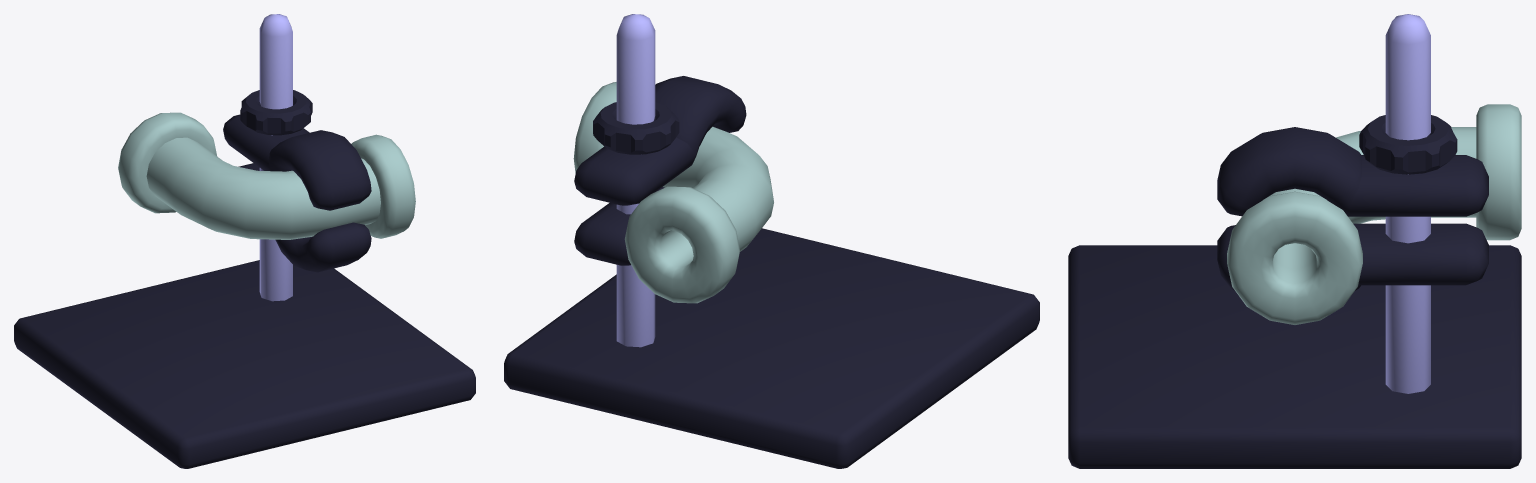
File: LastLuna_Model_Station_Pipe_Curve_Flip.fbx
3 views of the same model, side by side, from view 1: azimuth 30°, elevation 25°; view 2: azimuth 150°, elevation 25°; view 3: azimuth 270°, elevation 25° (orthographic). The views are drawn at different scales.
Visible parts, largest first — view 1: Stand_Base_Small001, Pipe_Curve001, Pipe_Arm_Clamp_Upper001, Stand_Pole_Small001, Pipe_Arm_Clamp_Lower001, Pipe_Arm_Clamp_Handle001; view 2: Stand_Base_Small001, Pipe_Curve001, Pipe_Arm_Clamp_Upper001, Stand_Pole_Small001, Pipe_Arm_Clamp_Handle001, Pipe_Arm_Clamp_Lower001; view 3: Stand_Base_Small001, Pipe_Curve001, Pipe_Arm_Clamp_Upper001, Stand_Pole_Small001, Pipe_Arm_Clamp_Lower001, Pipe_Arm_Clamp_Handle001.
Part boxes in pixels (x1=…): Stand_Base_Small001: x1=14, y1=260, x2=475, y2=468; Pipe_Curve001: x1=118, y1=112, x2=415, y2=239; Pipe_Arm_Clamp_Upper001: x1=223, y1=114, x2=371, y2=210; Stand_Pole_Small001: x1=259, y1=14, x2=292, y2=301; Pipe_Arm_Clamp_Lower001: x1=238, y1=163, x2=371, y2=272; Pipe_Arm_Clamp_Handle001: x1=240, y1=90, x2=312, y2=135; Stand_Base_Small001: x1=504, y1=228, x2=1039, y2=468; Pipe_Curve001: x1=573, y1=82, x2=773, y2=303; Pipe_Arm_Clamp_Upper001: x1=574, y1=76, x2=746, y2=205; Stand_Pole_Small001: x1=616, y1=14, x2=655, y2=347; Pipe_Arm_Clamp_Handle001: x1=593, y1=102, x2=679, y2=154; Pipe_Arm_Clamp_Lower001: x1=574, y1=187, x2=664, y2=265; Stand_Base_Small001: x1=1068, y1=245, x2=1521, y2=468; Pipe_Curve001: x1=1227, y1=104, x2=1521, y2=324; Pipe_Arm_Clamp_Upper001: x1=1217, y1=127, x2=1488, y2=216; Stand_Pole_Small001: x1=1385, y1=14, x2=1430, y2=393; Pipe_Arm_Clamp_Lower001: x1=1217, y1=223, x2=1488, y2=290; Pipe_Arm_Clamp_Handle001: x1=1359, y1=115, x2=1457, y2=174.
Bounding box in the file's own units: 100 × 100 × 100.
